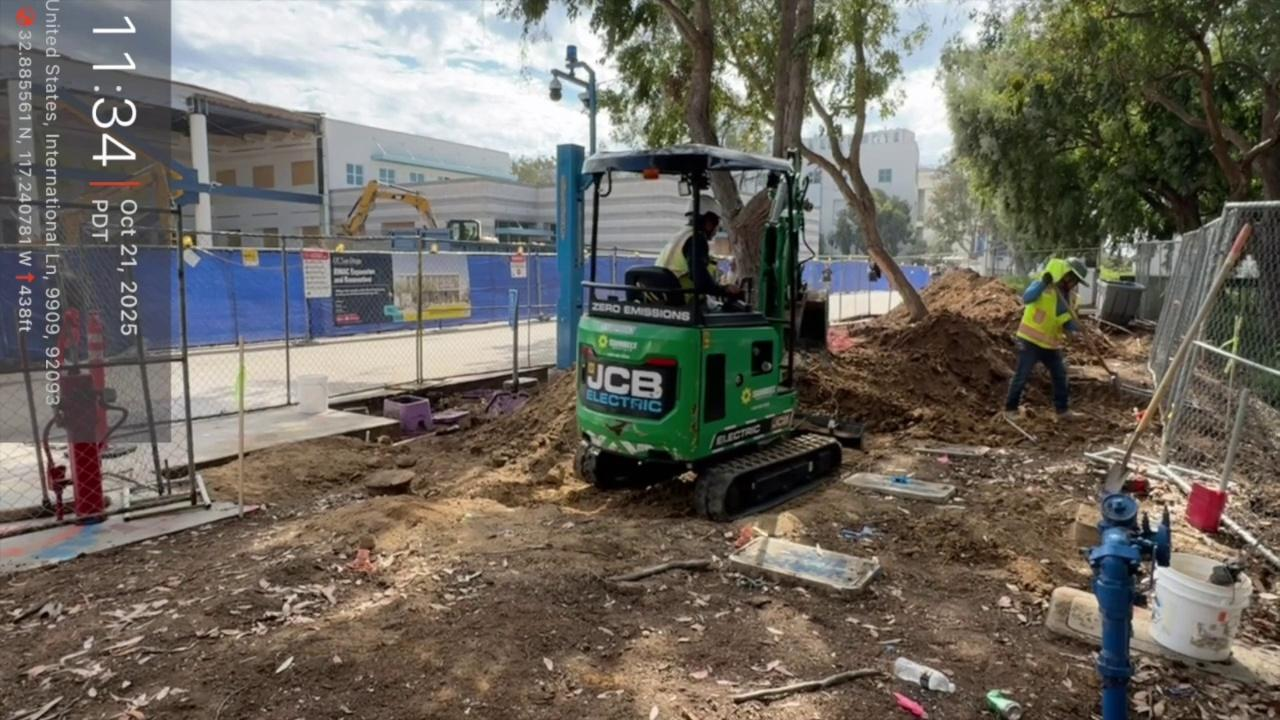Exacavator: (565, 140, 865, 522)
